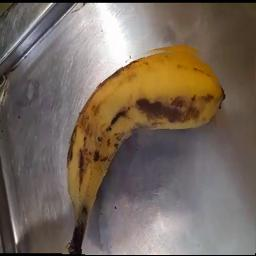Banana Semirotten: (43, 44, 256, 255)
